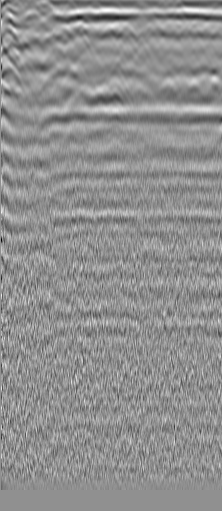오수: (42, 28, 62, 48)
우수: (174, 59, 194, 79)
